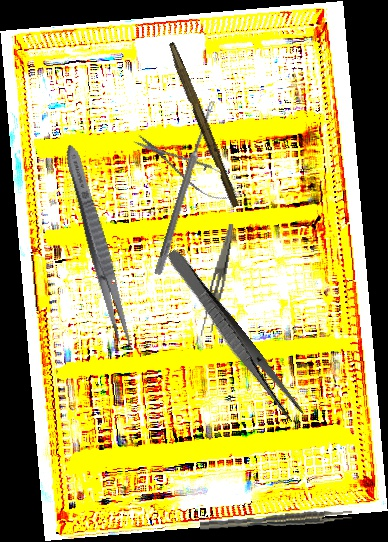Dressing Forceps: (160, 246, 307, 426), (58, 142, 140, 354), (198, 221, 235, 339)
Micro Scissor: (127, 125, 247, 211)
Scalpel Handle: (163, 41, 243, 209)
Surgical Spoon: (154, 99, 216, 276)
Tissue Forceps: (199, 509, 353, 530)
